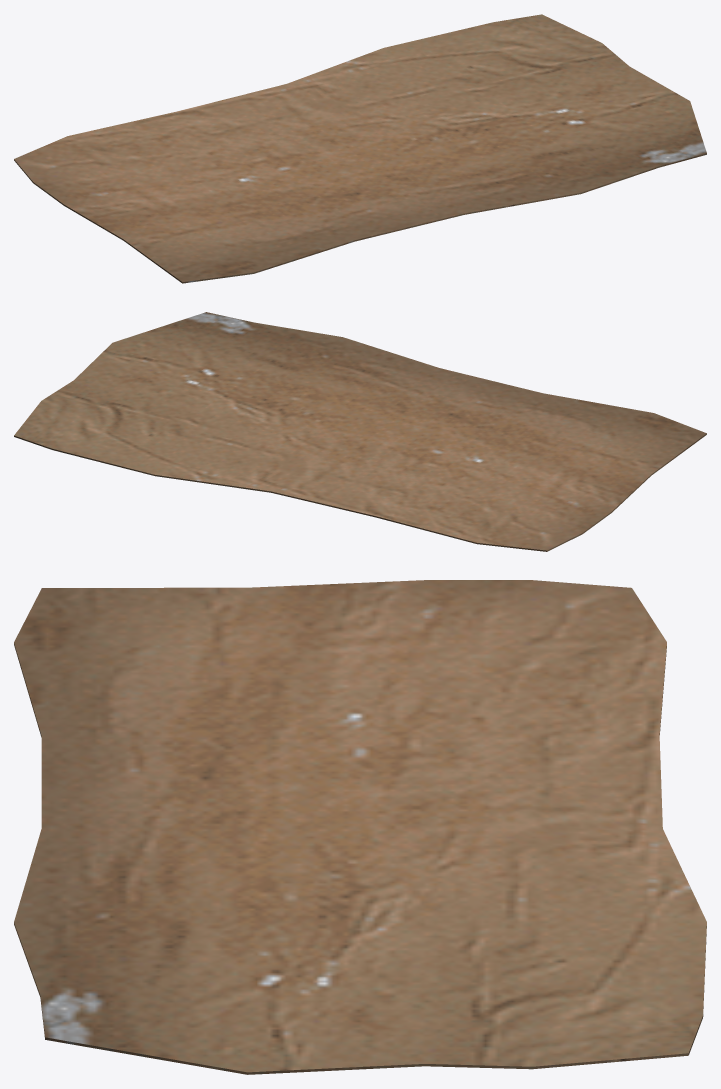
Rendered from CardboardBoxFlattened1_SM.fbx.
3 renders of one model, top to bottom at view 1: azimuth 30°, elevation 25°; view 2: azimuth 150°, elevation 25°; view 3: azimuth 270°, elevation 25°, orthographic. The views are drawn at different scales.
Parts seen in each view (by area): view 1: Box010; view 2: Box010; view 3: Box010.
Boxes of the visible parts, x1,y1,x2,y2 form: Box010: (14, 14, 706, 283); Box010: (14, 312, 706, 551); Box010: (14, 580, 706, 1074).
Bounding box in the file's own units: 98.58 × 0.2318 × 58.65.
